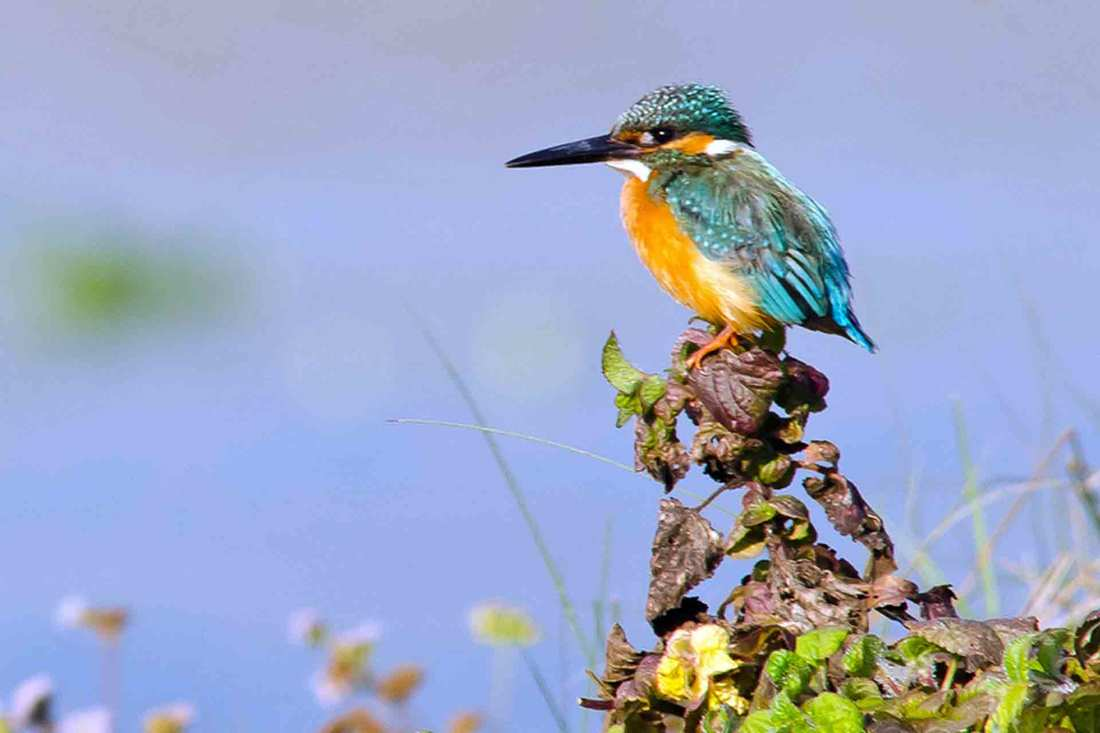bird: (479, 80, 900, 391)
